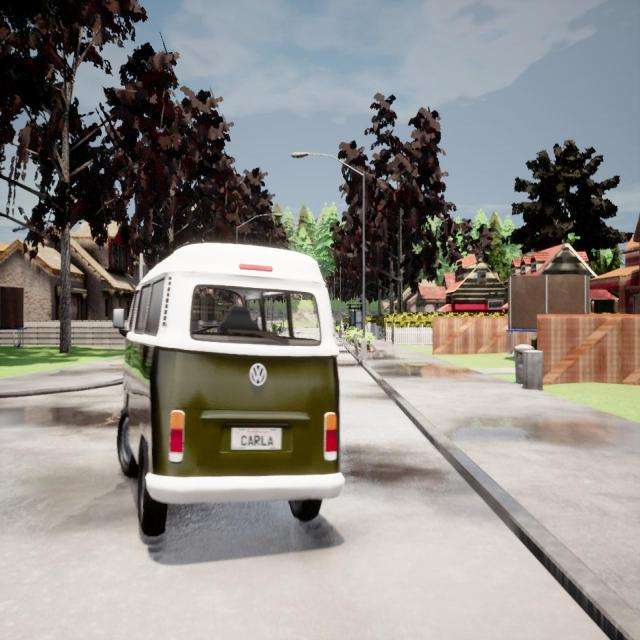Vehicle: (117, 243, 344, 535)
traffic_light: (138, 263, 147, 276)
